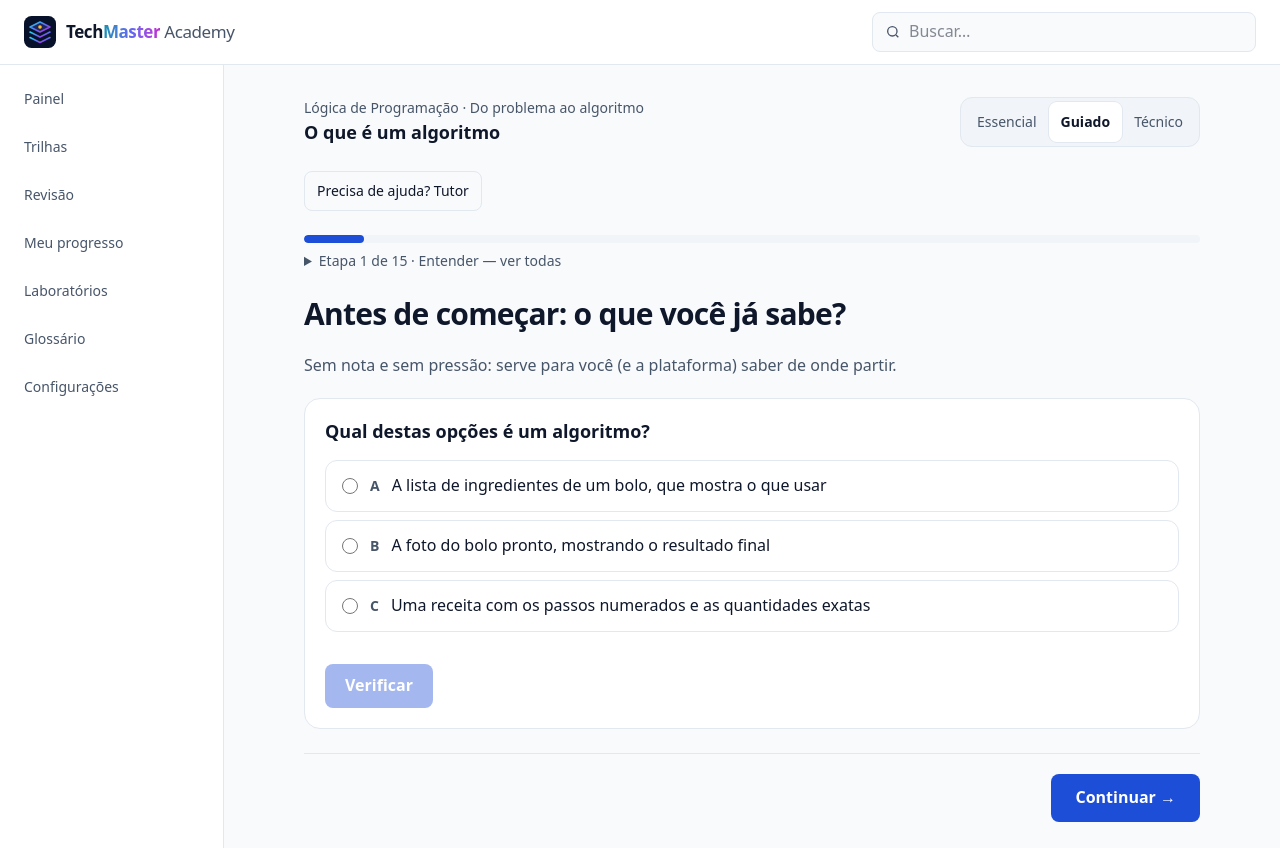
tutor, diagnóstico e links diretos › tutor mostra a analogia e leva à simulação
Click the button "Precisa de ajuda? Tutor": (393,191) [304,171,482,211]
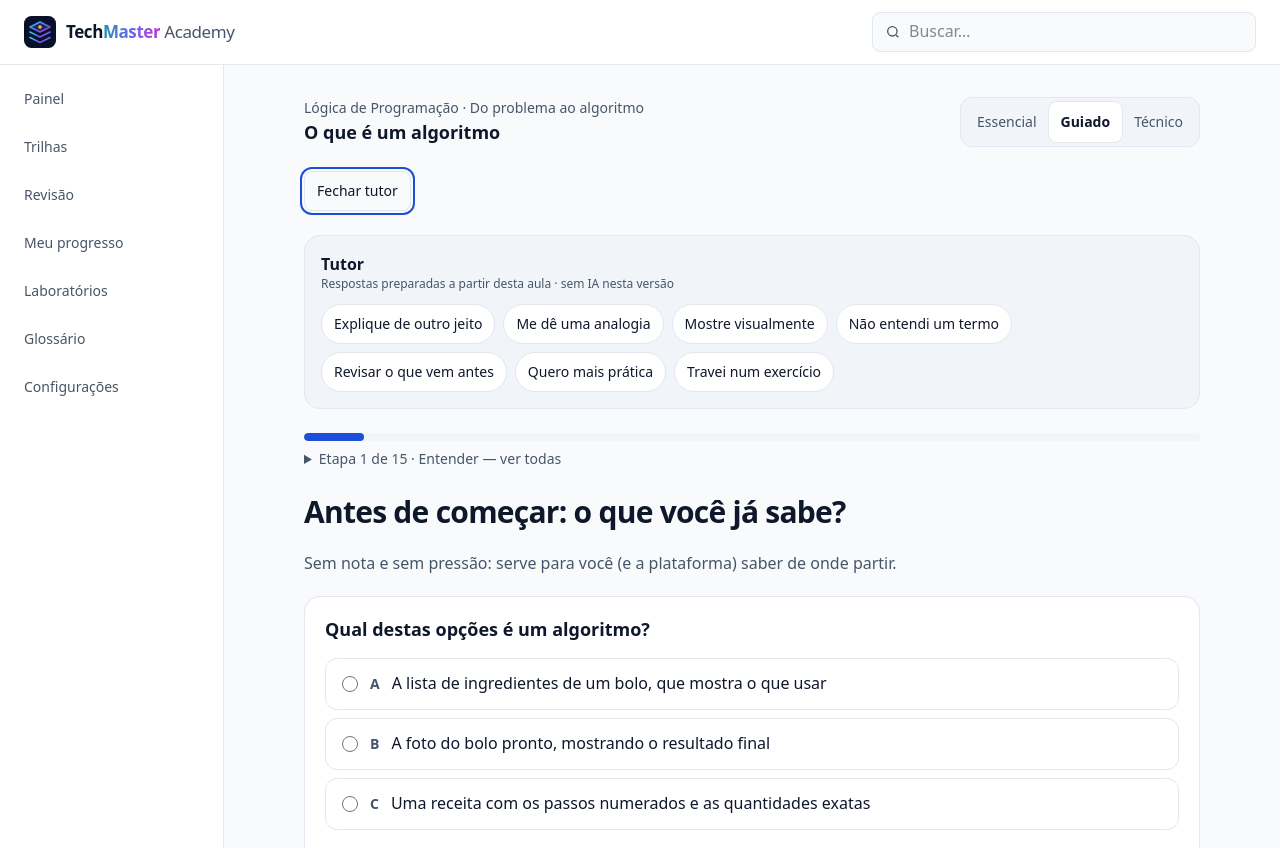
Click the button "Me dê uma analogia": (583,324) [503,304,664,344]
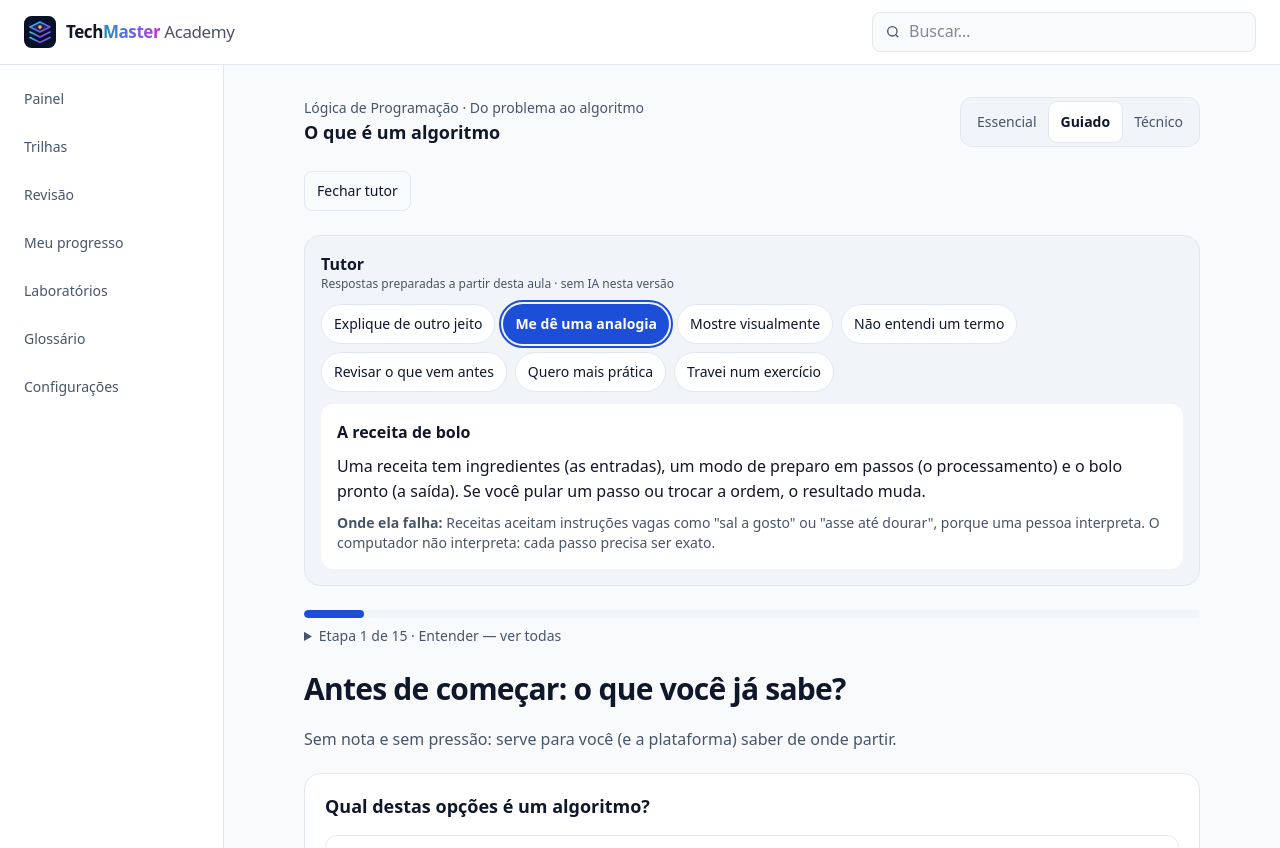
expect the text "Uma receita tem ingredientes" is shown: met, box [337,455,1122,502]
Click the button "Mostre visualmente": (755,324) [677,304,833,344]
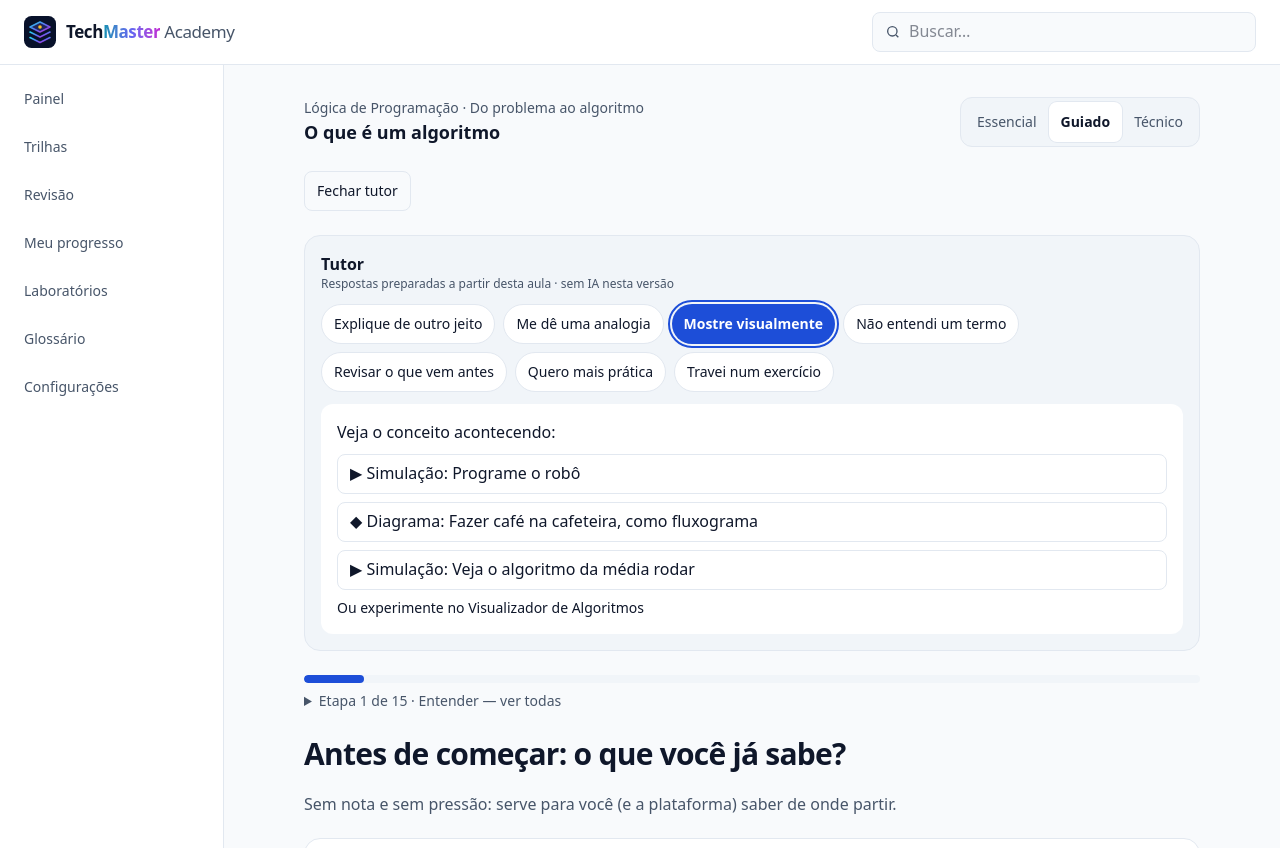
Click the button "▶ Simulação: Programe o robô": (401,473) [337,454,1167,494]
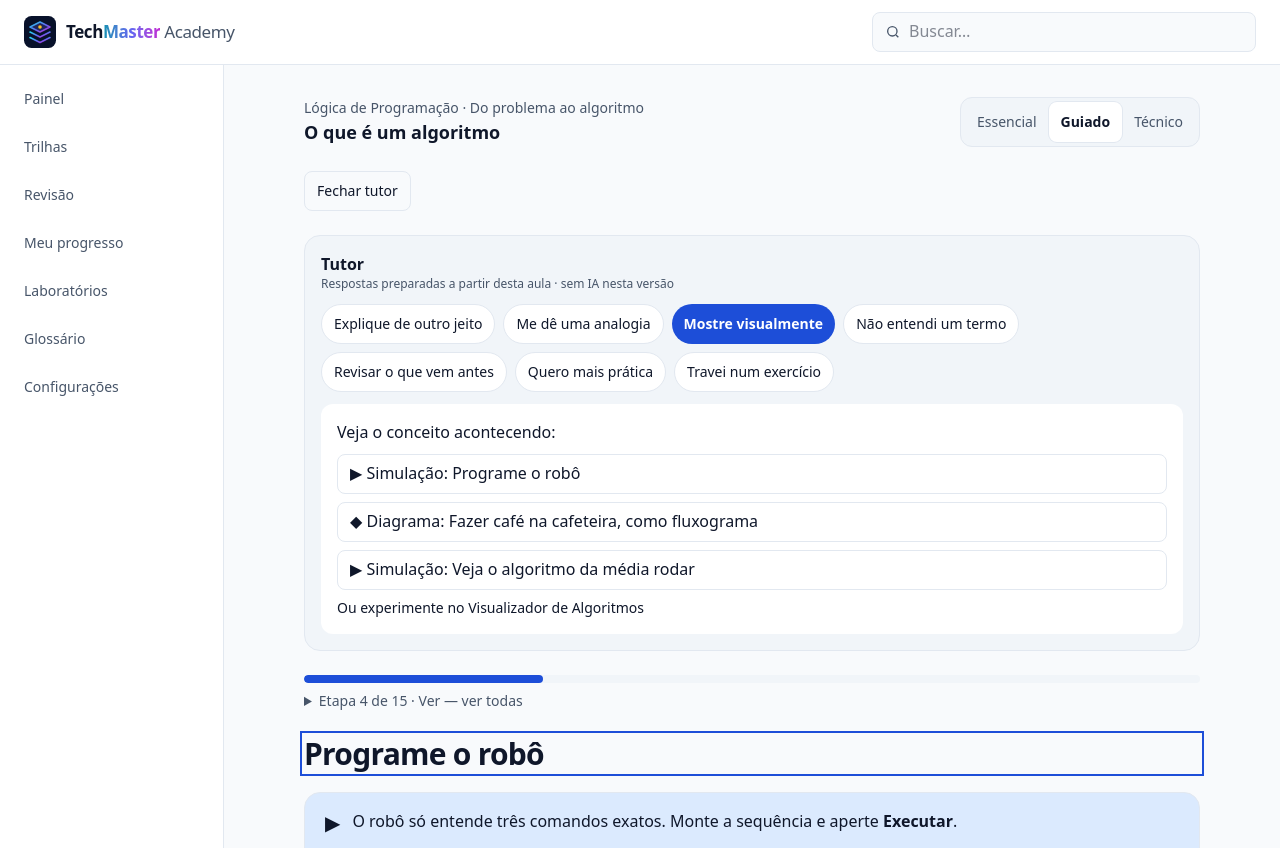
expect the heading "Programe o robô" is shown: met, box [304,733,544,774]
